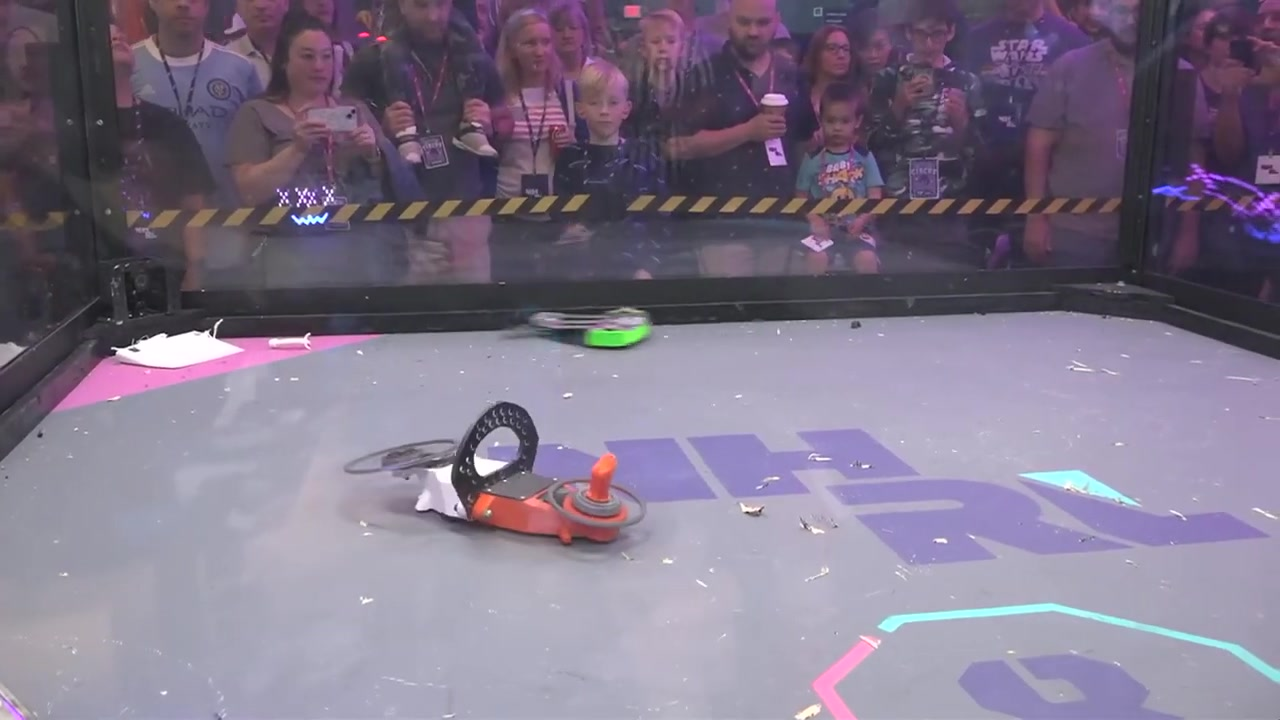combatbot: (344, 399, 647, 555), (496, 306, 655, 350)
debris: (266, 322, 314, 359)
minibot: (112, 316, 241, 372)
